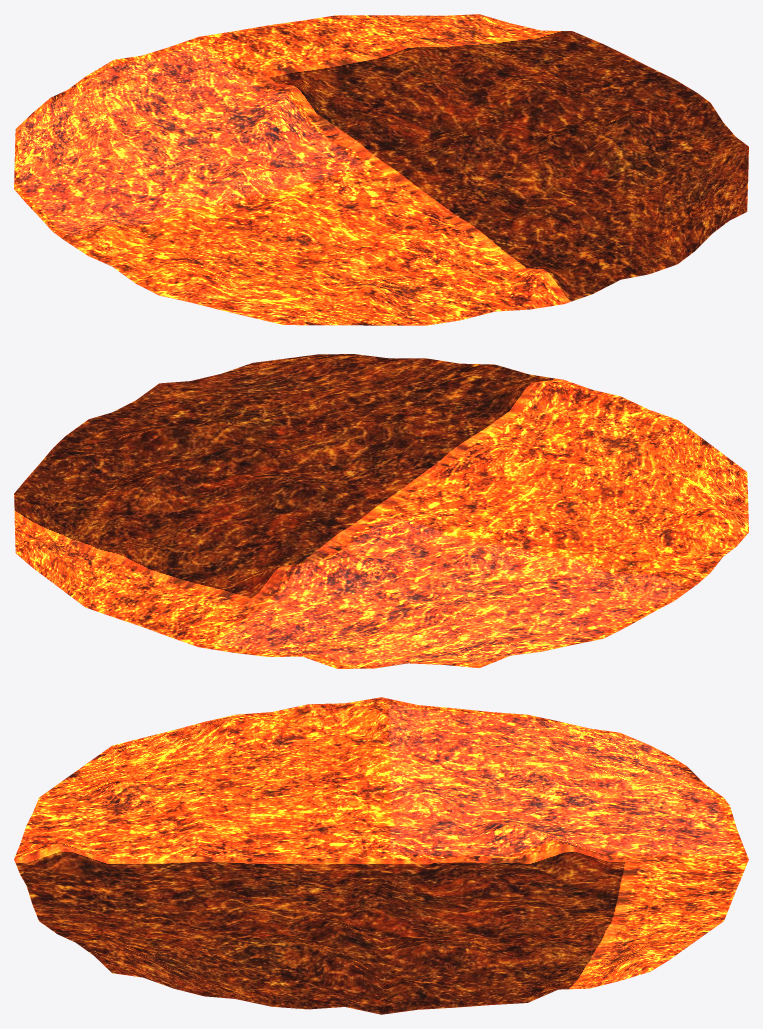
File: AnimaciónLava.fbx
The picture shows the model from 3 angles, top to bottom: view 1: azimuth 30°, elevation 25°; view 2: azimuth 150°, elevation 25°; view 3: azimuth 270°, elevation 25°; orthographic projection.
Visible parts, largest first — view 1: Lava; view 2: Lava; view 3: Lava.
Boxes of the visible parts, bbox=[...] form: Lava: bbox=[14, 14, 748, 325]; Lava: bbox=[14, 354, 748, 668]; Lava: bbox=[14, 697, 748, 1014].
Size of the model in its own units: 1631 by 37.85 by 1631.
1 material, 1 textured.
